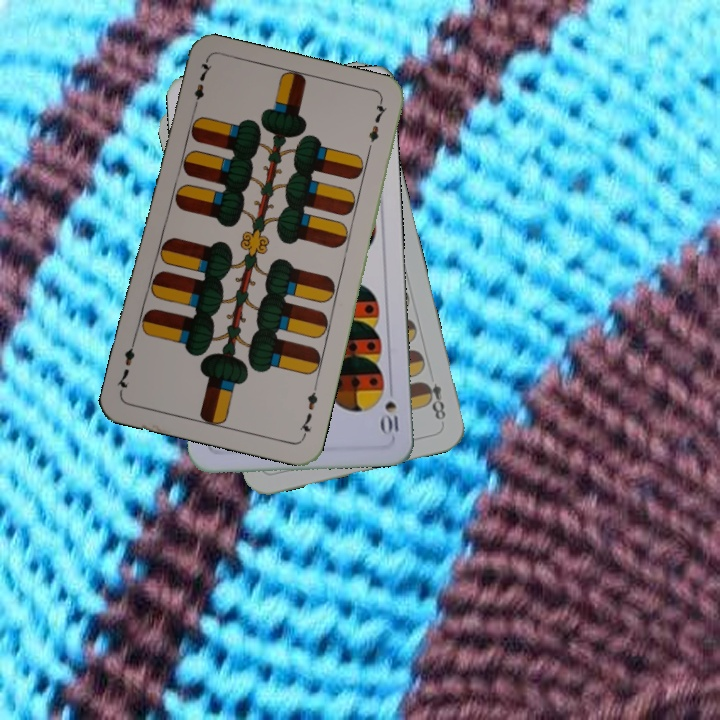E7: (295, 382, 321, 441), (189, 58, 214, 116)
E8: (418, 378, 449, 426)
S10: (378, 380, 402, 439)
